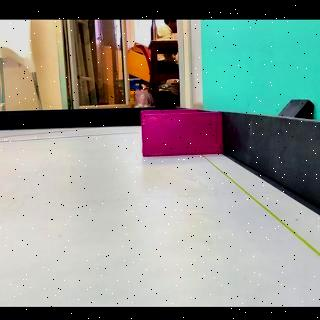xparking: (144, 114, 216, 154)
